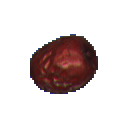gd: (23, 25, 114, 116)
